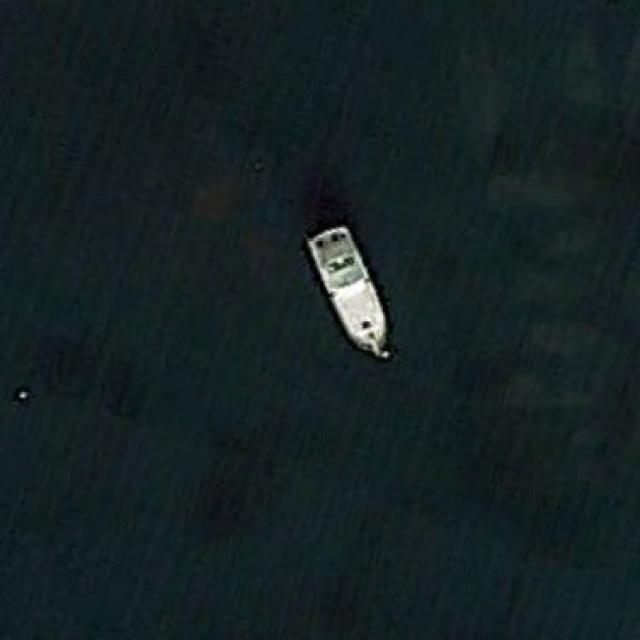ship: (303, 217, 388, 356)
